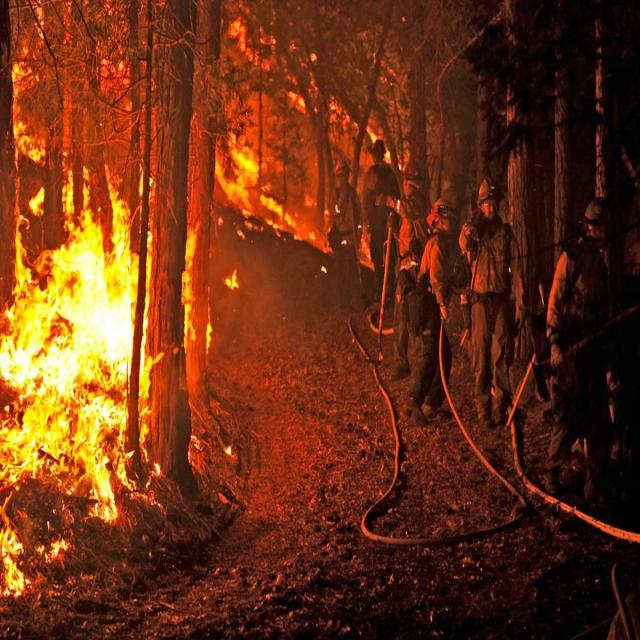Fire: (2, 183, 205, 481), (217, 134, 290, 232), (8, 19, 44, 154), (0, 528, 44, 598)
